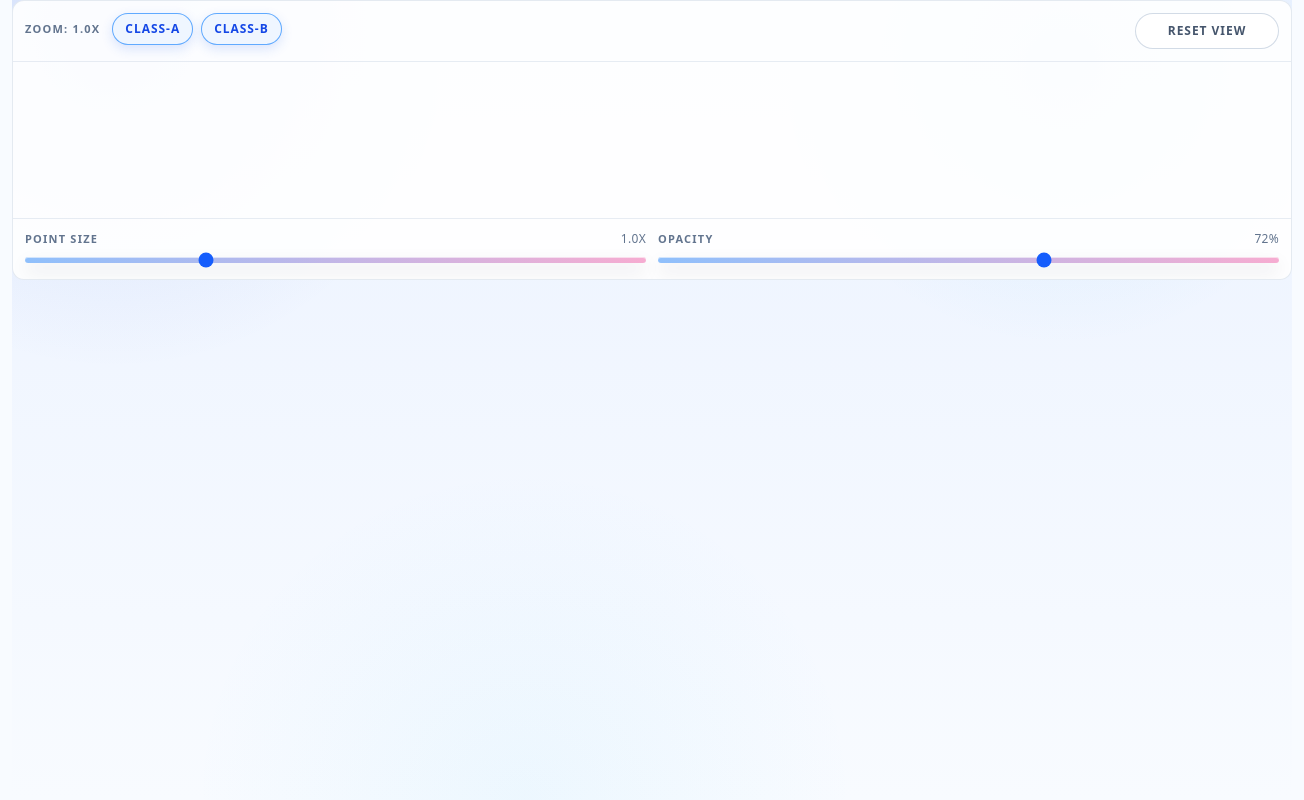
Test: D3EmbeddingScatter › supports label toggles and reset action
What coordinates should you click on to do the following:
click the button "class-A"
I would click on:
 (153, 29)
Its box is [112, 13, 193, 45].
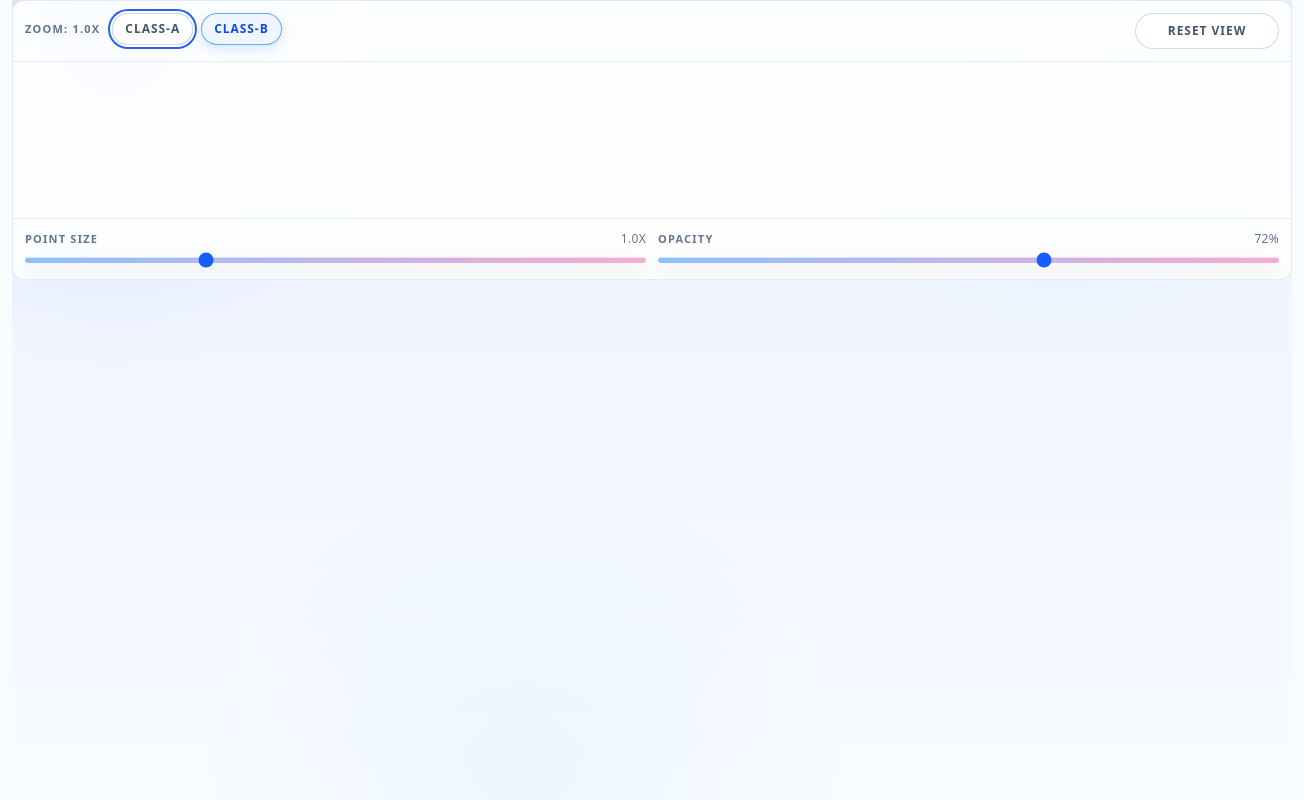
What coordinates should you click on to do the following:
click the button "class-B"
I would click on:
 (241, 29)
Its box is [201, 13, 282, 45].
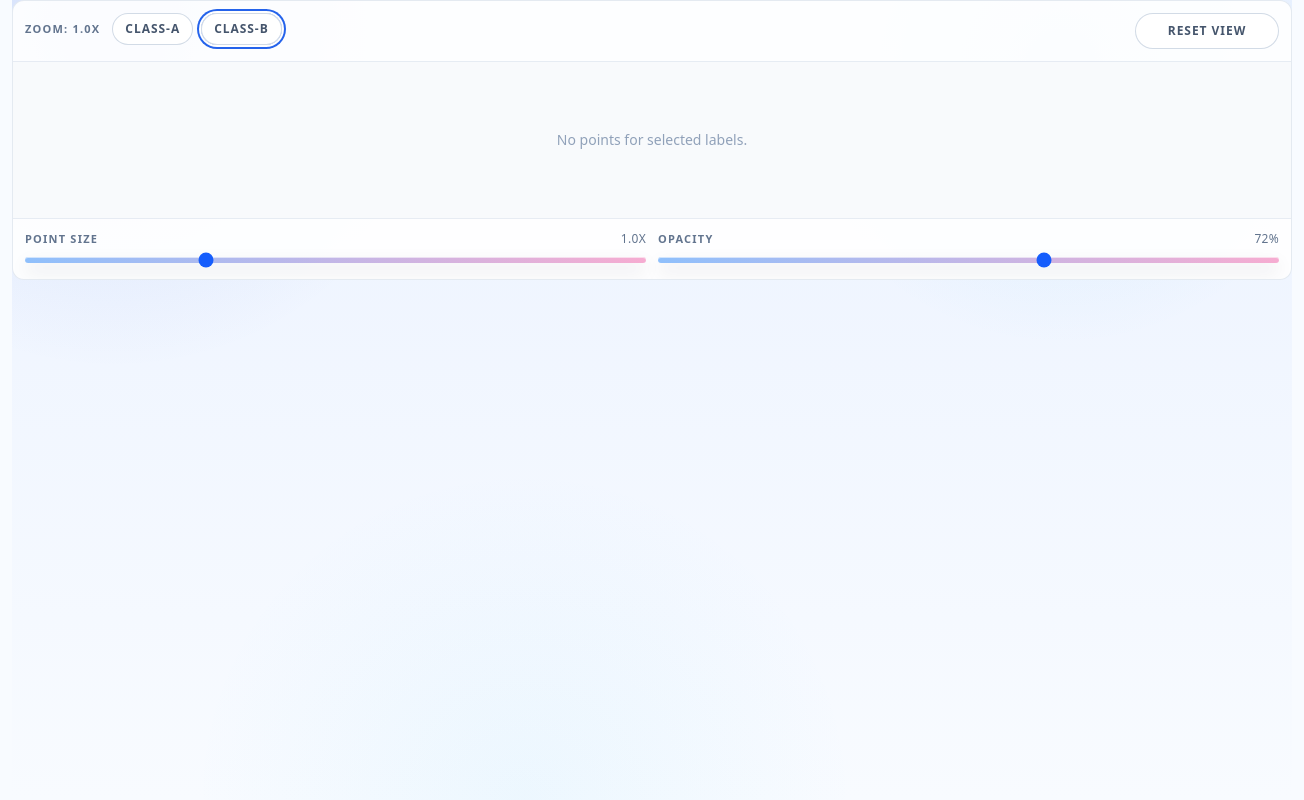
Check: the text "No points for selected labels." is shown, box [13, 62, 1291, 218]
What coordinates should you click on to do the following:
click the button "Reset view"
I would click on:
 (1207, 31)
Its box is [1135, 13, 1279, 49].
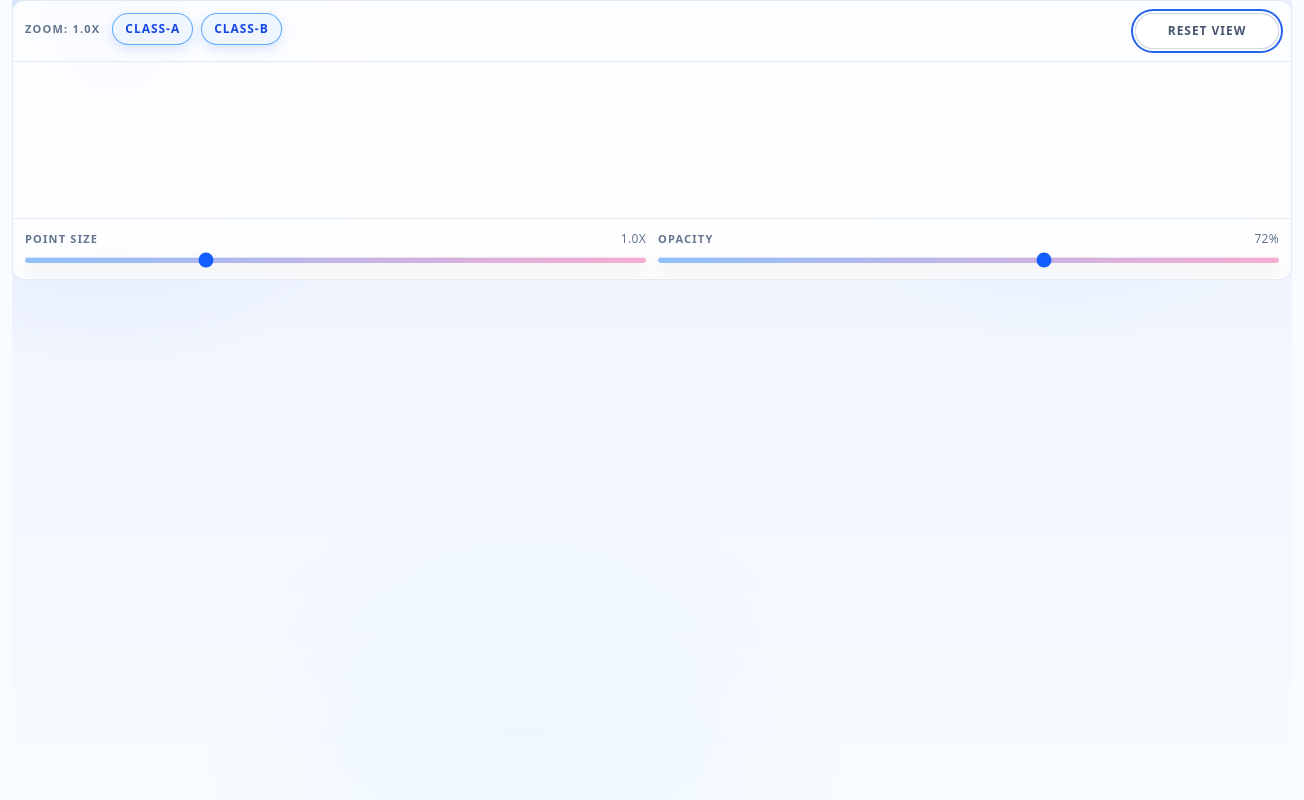
Check: the text "No points for selected labels." is gone
